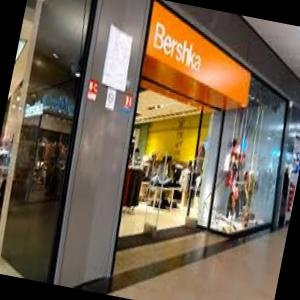bershka: (140, 48, 296, 64)
